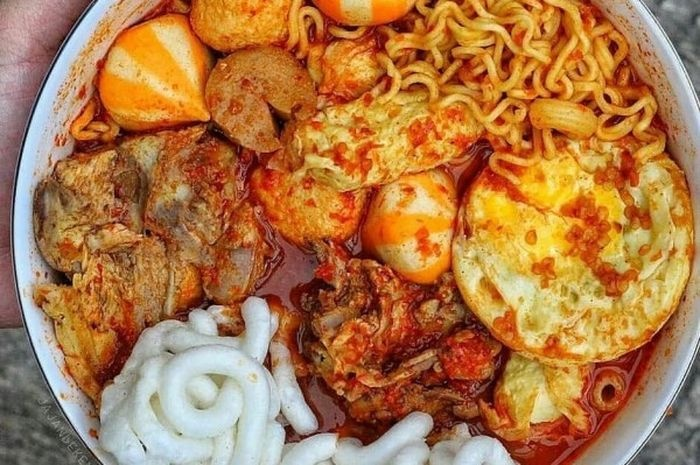seblak: (36, 1, 694, 465)
